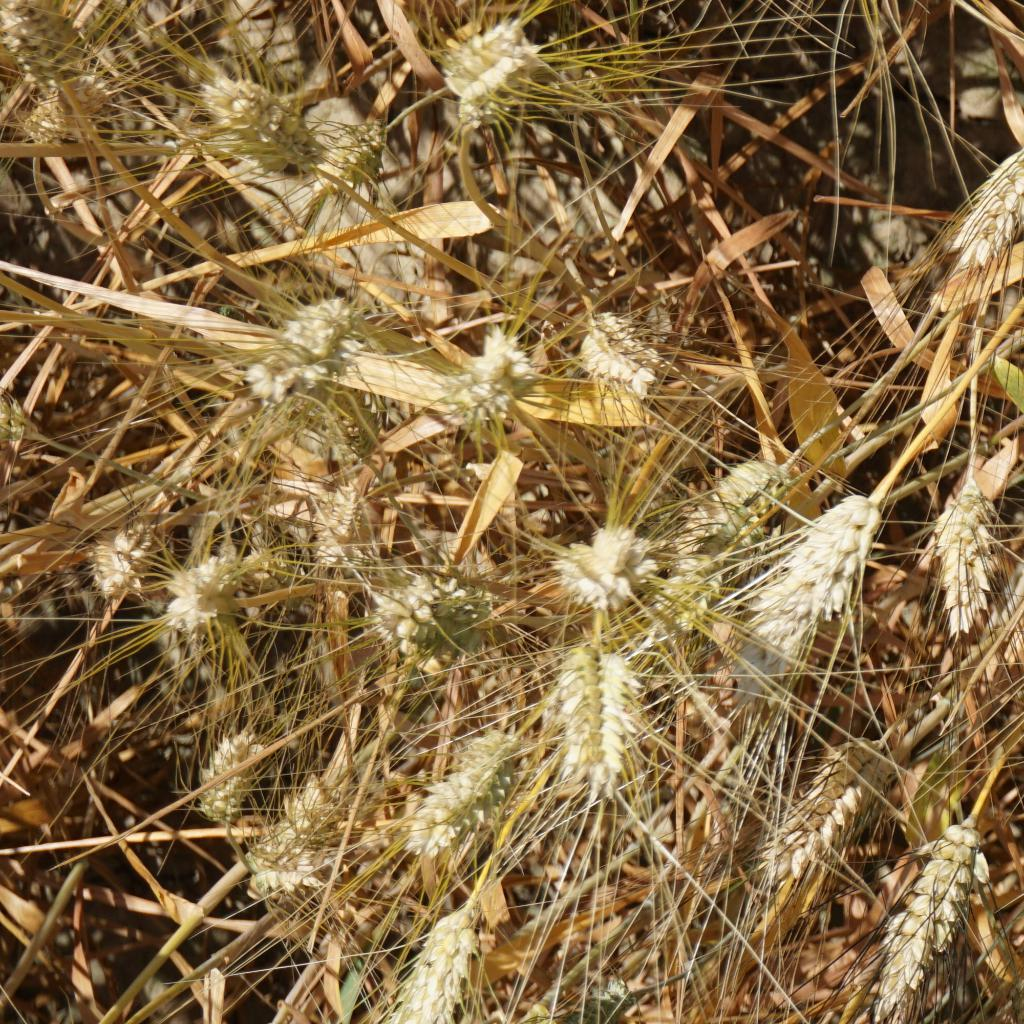0-0: (843, 822, 989, 999), (743, 726, 888, 888), (727, 497, 875, 640), (915, 477, 1014, 650), (406, 713, 531, 834), (553, 638, 652, 781), (450, 340, 561, 445), (429, 13, 542, 114), (390, 913, 492, 1024), (191, 82, 314, 174), (665, 441, 775, 539), (374, 569, 492, 657), (542, 519, 650, 612), (564, 293, 660, 393), (957, 129, 1024, 268), (257, 792, 349, 892), (260, 297, 343, 400), (0, 0, 99, 86), (307, 115, 409, 195), (301, 474, 379, 558), (156, 567, 259, 627), (194, 729, 260, 820), (660, 546, 724, 632), (93, 519, 159, 594)
